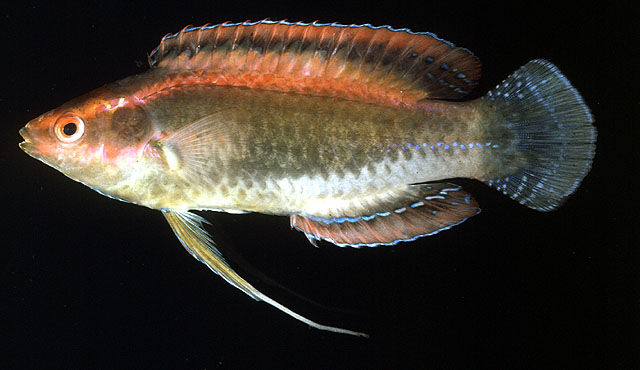fish: (18, 19, 597, 338)
